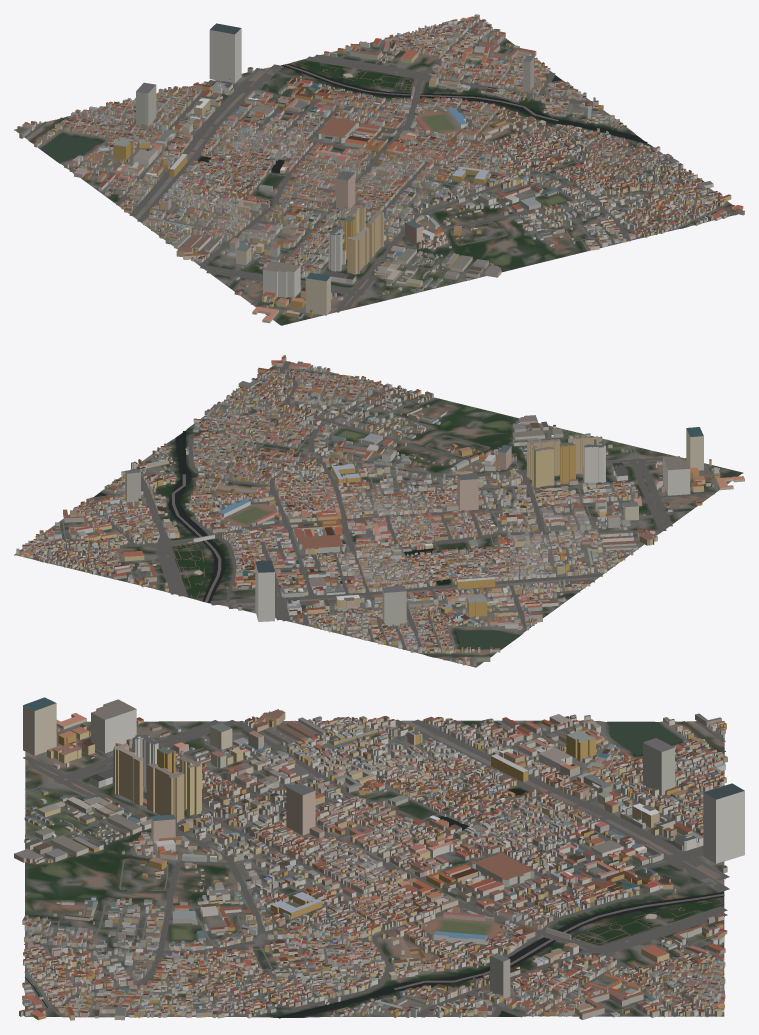
3 renders of one model, top to bottom at view 1: azimuth 30°, elevation 25°; view 2: azimuth 150°, elevation 25°; view 3: azimuth 270°, elevation 25°, orthographic. The views are drawn at different scales.
Visible parts, largest first — view 1: buildings, ground, roads, water; view 2: buildings, ground, roads, water; view 3: buildings, ground, roads, water.
Part boxes in pixels (box(x1,y1,x2,y2)): buildings: box(17, 14, 744, 323); ground: box(14, 19, 738, 325); roads: box(24, 21, 738, 316); water: box(29, 63, 716, 228); buildings: box(16, 355, 744, 665); ground: box(14, 360, 743, 667); roads: box(19, 361, 717, 666); water: box(94, 370, 520, 656); buildings: box(14, 697, 744, 1020); ground: box(25, 720, 724, 1017); roads: box(23, 719, 729, 1017); water: box(25, 721, 725, 1018).
Size of the model in its own units: 1448 by 149 by 1465.
